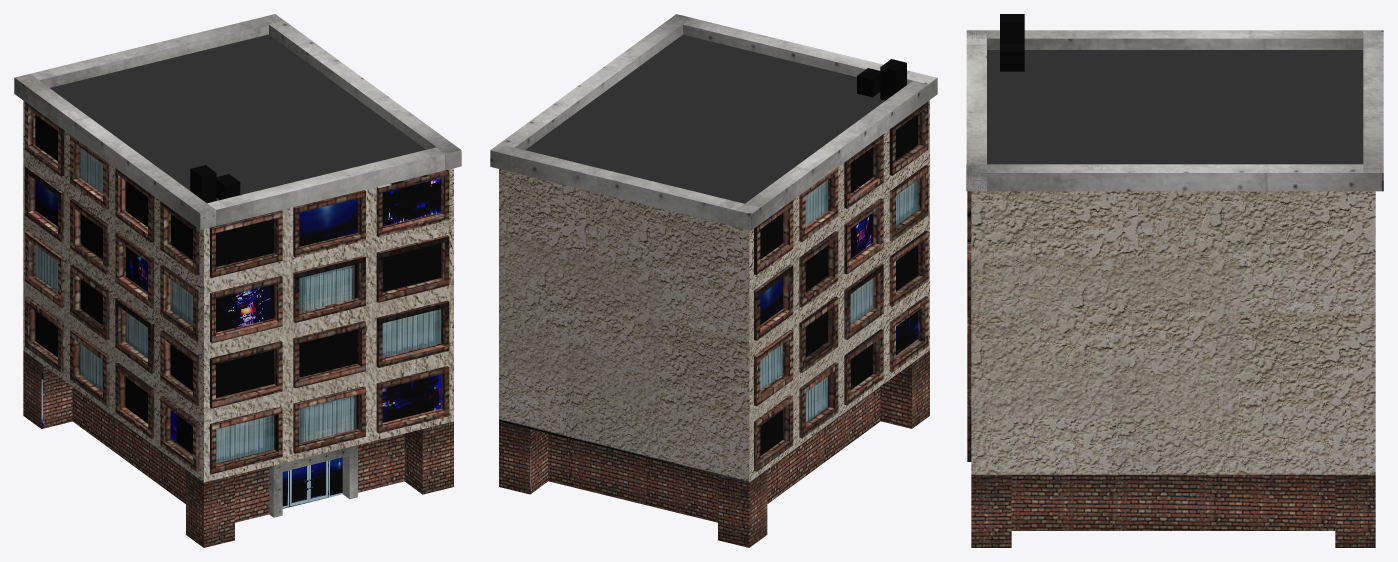
File: Apartment2.2.glb
The picture shows the model from 3 angles, left to right: view 1: azimuth 30°, elevation 25°; view 2: azimuth 150°, elevation 25°; view 3: azimuth 270°, elevation 25°; orthographic projection. The views are drawn at different scales.
Visible parts, largest first — view 1: Cube.006; view 2: Cube.006; view 3: Cube.006.
Part boxes in pixels (x1=…): Cube.006: x1=14, y1=14, x2=461, y2=547; Cube.006: x1=490, y1=14, x2=937, y2=547; Cube.006: x1=966, y1=14, x2=1383, y2=547.
Bounding box in the file's own units: 8.35 × 10.99 × 10.31.
Materials: 1 (1 with a texture image).
